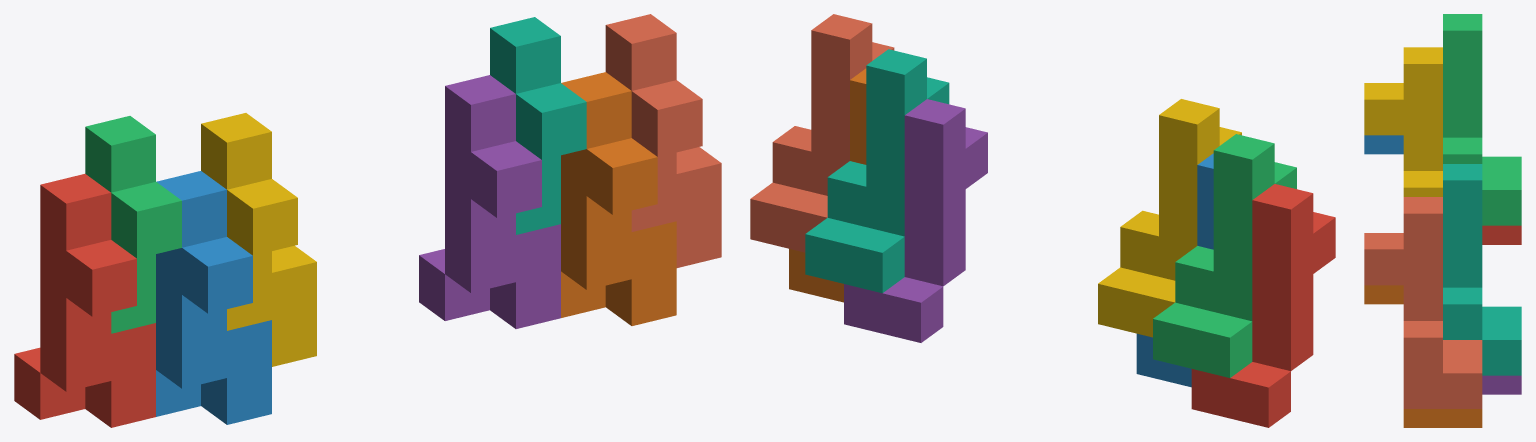
File: tiling.obj
The picture shows the model from 3 angles, left to right: view 1: azimuth 30°, elevation 25°; view 2: azimuth 150°, elevation 25°; view 3: azimuth 270°, elevation 25°; orthographic projection. The views are drawn at different scales.
Parts seen in each view (by area): view 1: copy_1_domain_1, copy_1_domain_5, copy_1_domain_6, copy_1_domain_2, copy_1_domain_8, copy_1_domain_4, copy_1_domain_7, copy_1_domain_3; view 2: copy_1_domain_5, copy_1_domain_1, copy_1_domain_3, copy_1_domain_7, copy_1_domain_8, copy_1_domain_4, copy_1_domain_2, copy_1_domain_6; view 3: copy_1_domain_8, copy_1_domain_7, copy_1_domain_3, copy_1_domain_4, copy_1_domain_6, copy_1_domain_1, copy_1_domain_2, copy_1_domain_5.
Part boxes in pixels (<box>): copy_1_domain_1: <box>14,174,155,427</box>; copy_1_domain_5: <box>419,75,560,328</box>; copy_1_domain_6: <box>561,72,676,325</box>; copy_1_domain_2: <box>156,171,271,424</box>; copy_1_domain_8: <box>605,14,721,267</box>; copy_1_domain_4: <box>201,113,316,366</box>; copy_1_domain_7: <box>490,17,586,234</box>; copy_1_domain_3: <box>85,116,181,333</box>; copy_1_domain_5: <box>844,99,987,342</box>; copy_1_domain_1: <box>1191,184,1335,427</box>; copy_1_domain_3: <box>1153,134,1296,377</box>; copy_1_domain_7: <box>805,49,949,293</box>; copy_1_domain_8: <box>750,14,894,252</box>; copy_1_domain_4: <box>1098,99,1241,337</box>; copy_1_domain_2: <box>1136,153,1213,387</box>; copy_1_domain_6: <box>789,68,866,302</box>; copy_1_domain_8: <box>1364,197,1482,408</box>; copy_1_domain_7: <box>1443,164,1521,375</box>; copy_1_domain_3: <box>1443,14,1521,225</box>; copy_1_domain_4: <box>1364,47,1442,196</box>; copy_1_domain_6: <box>1364,285,1482,427</box>; copy_1_domain_1: <box>1482,225,1521,244</box>; copy_1_domain_2: <box>1364,135,1403,154</box>; copy_1_domain_5: <box>1482,375,1521,394</box>.
Bounding box in the file's own units: 14 × 6 × 4.
